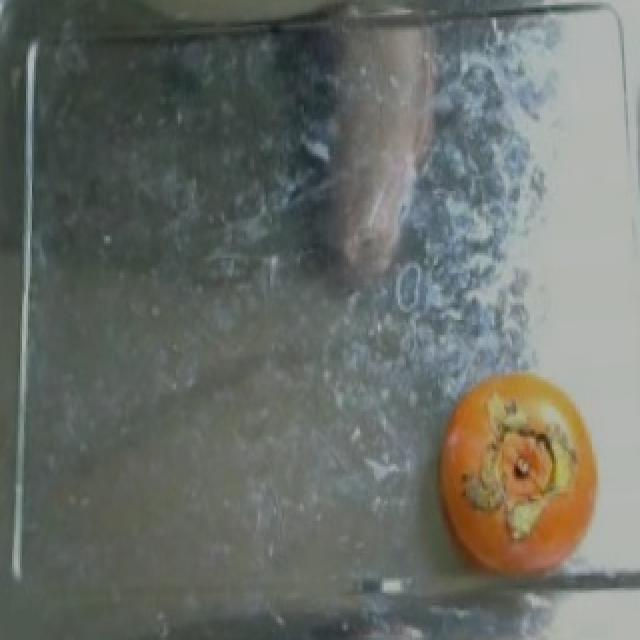Fruit: (418, 355, 620, 605)
